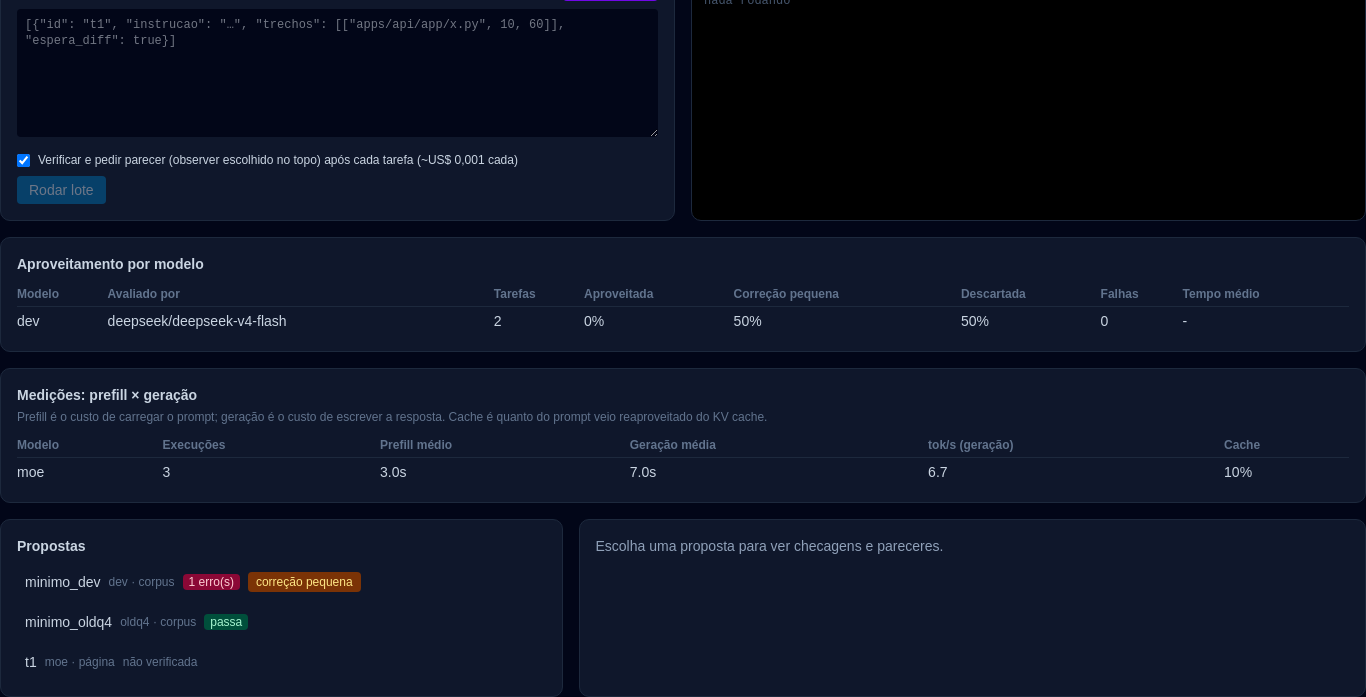
Test case: Bancada Local › abre o detalhe com checagens, parecer e copia o prompt de correção
(page scrolled)
What coordinates should you click on to do the following:
click the button "minimo_dev dev · corpus 1 erro(s) correção pequena"
I would click on:
 (281, 582)
Its box is [17, 564, 546, 600].
(page scrolled)
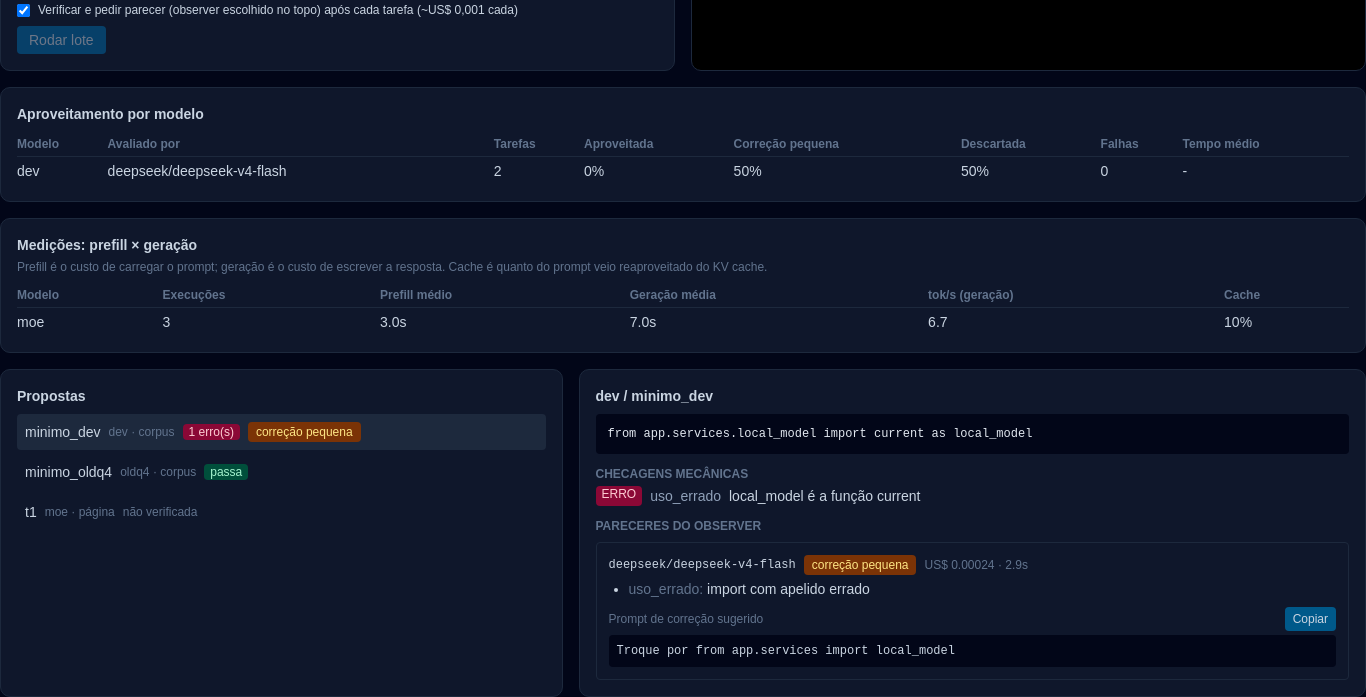
expect the text "local_model é a função current" is shown: met, box [729, 486, 920, 506]
expect the list item "import com apelido errado" is shown: met, box [707, 581, 870, 597]
What coordinates should you click on to do the following:
click the button "Copiar"
I would click on:
 (1310, 619)
Its box is [1285, 607, 1336, 631].
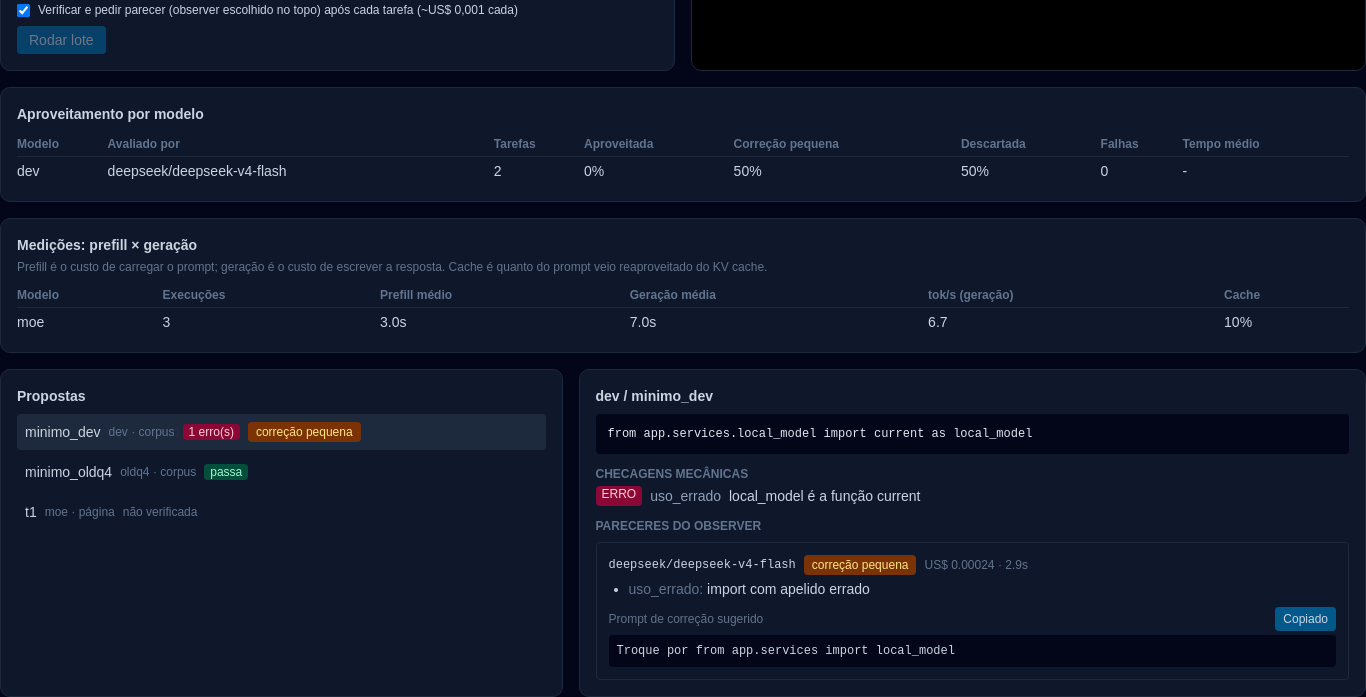
expect the button "Copiado" is shown: met, box [1275, 607, 1336, 631]
